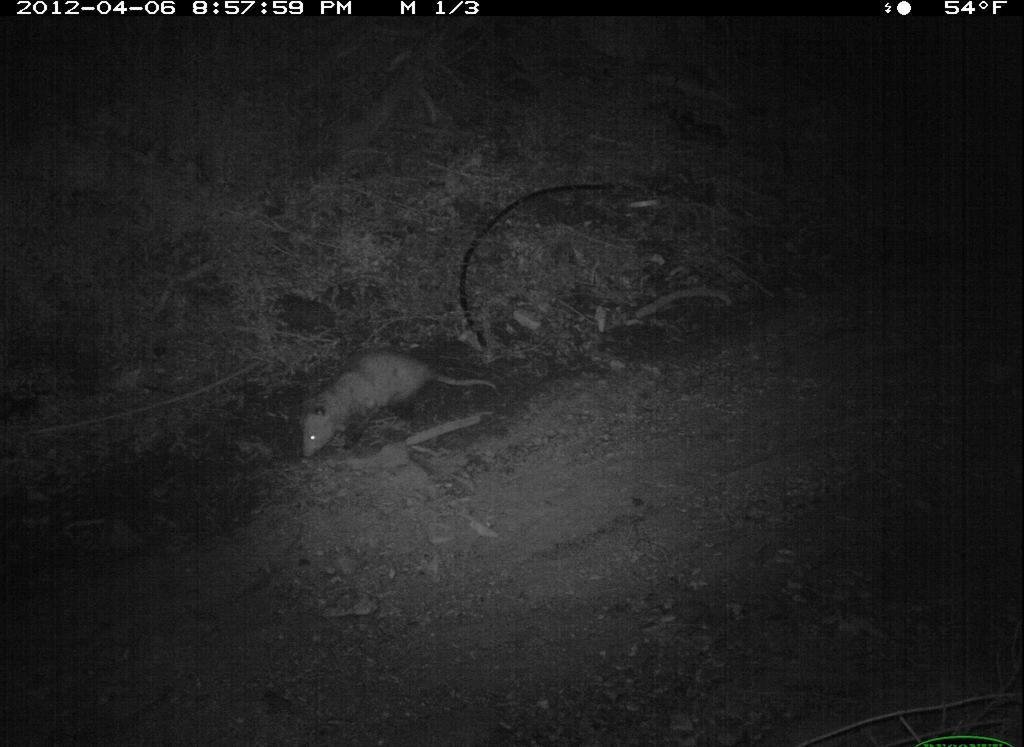opossum: (295, 337, 511, 466)
